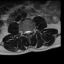CCS_normal: (27, 27, 28, 37)
LFS_normal: (30, 27, 32, 35)
LLS_normal: (28, 27, 30, 35)
RFS_normal: (22, 28, 25, 35)
RLS_normal: (25, 28, 27, 35)
